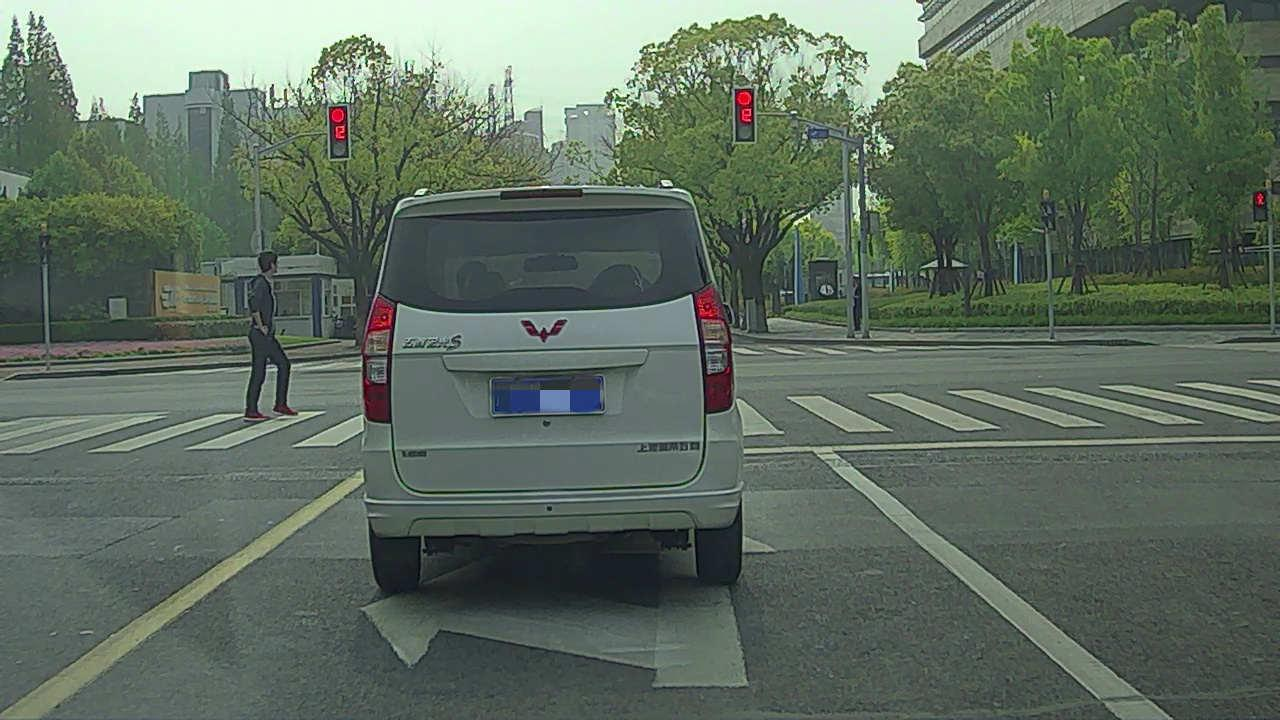traffic_light: (328, 106, 351, 160), (734, 88, 755, 143)
